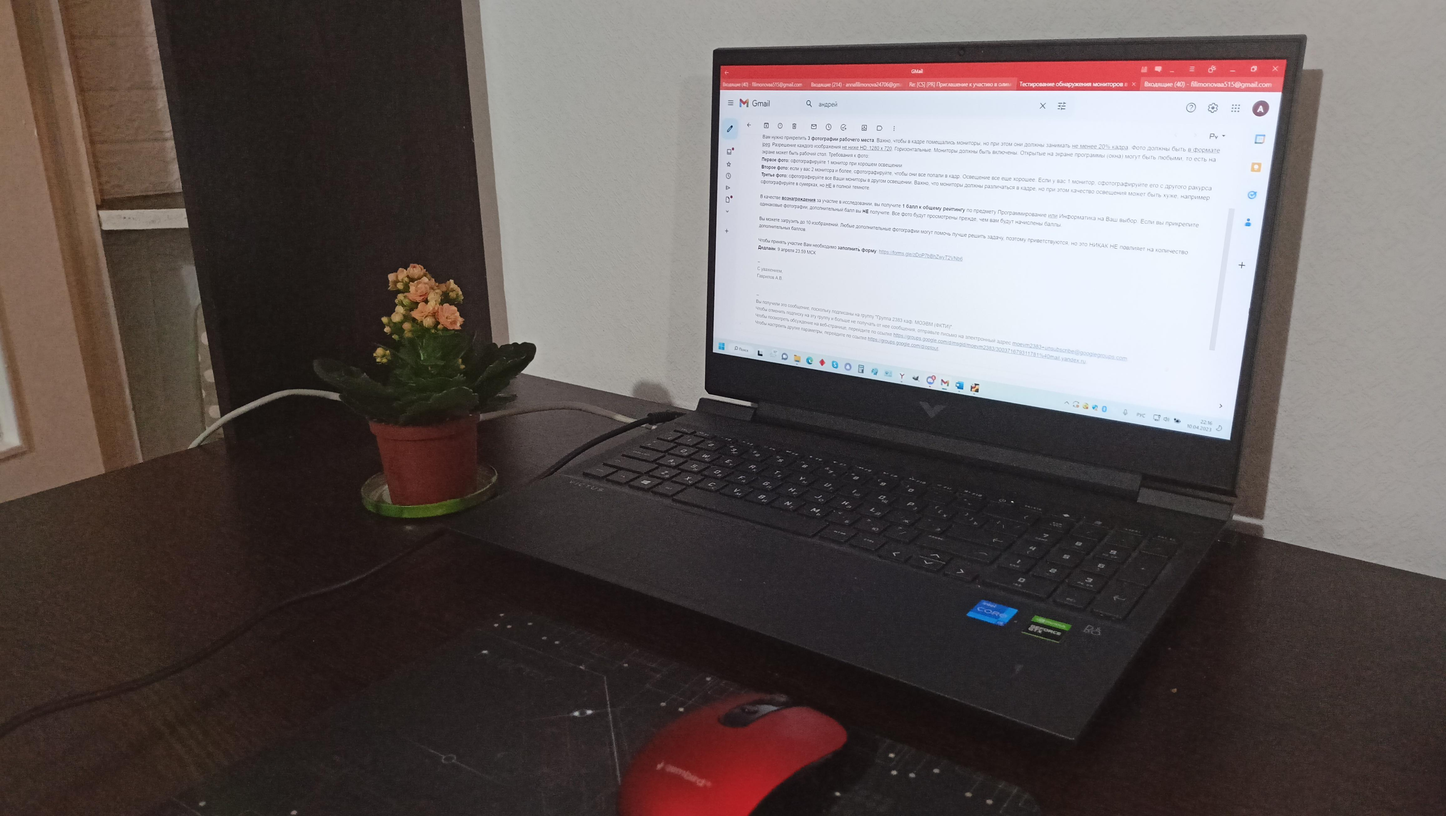monitor: (691, 25, 1315, 505)
